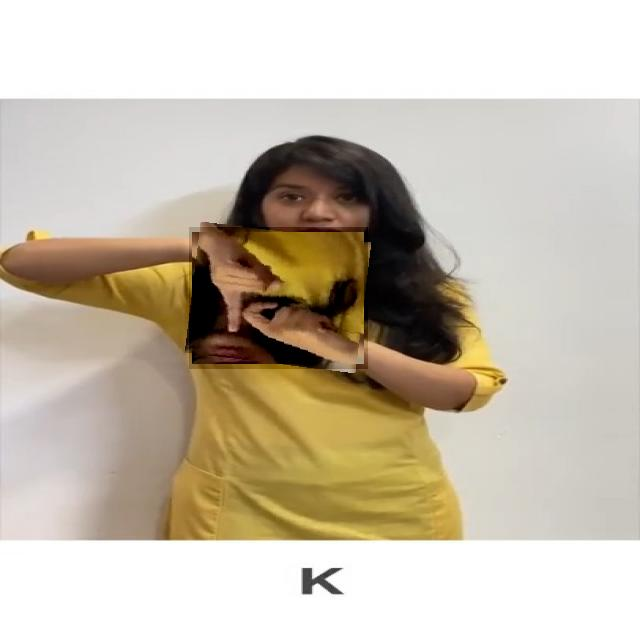K: (189, 227, 368, 369)
